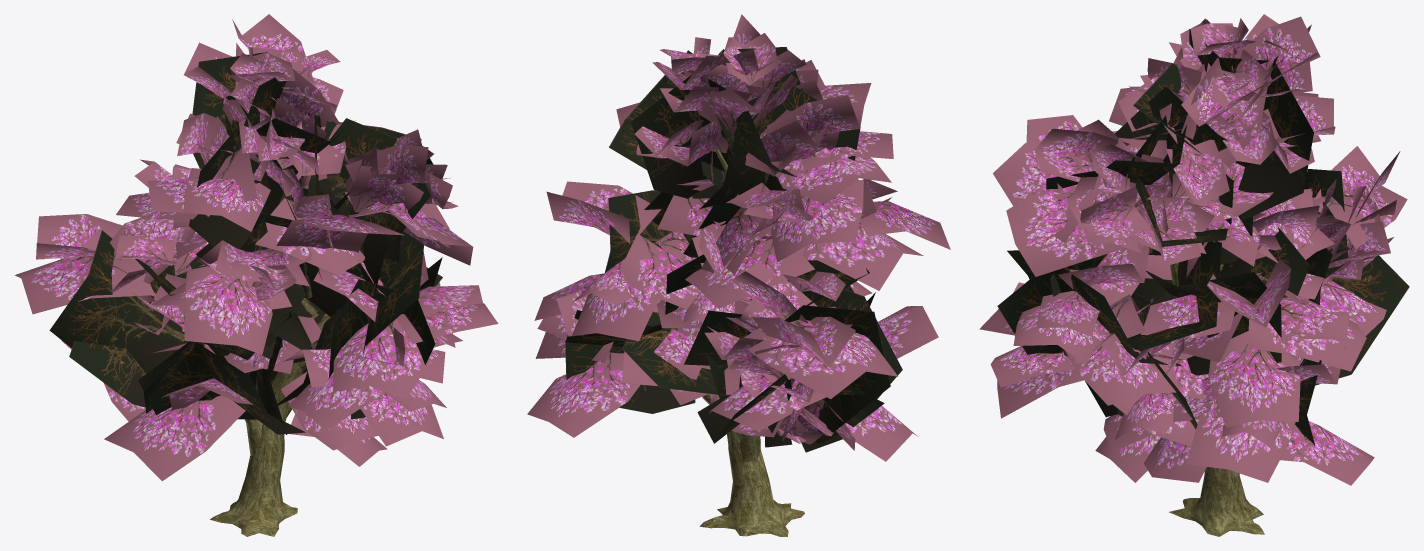
File: Scene_Tree_HongShu_5.FBX
3 renders of one model, left to right at view 1: azimuth 30°, elevation 25°; view 2: azimuth 150°, elevation 25°; view 3: azimuth 270°, elevation 25°, orthographic. The views are drawn at different scales.
Visible parts, largest first — view 1: Scene_Tree_HongShu_5b, Scene_Tree_HongShu_5a; view 2: Scene_Tree_HongShu_5b, Scene_Tree_HongShu_5a; view 3: Scene_Tree_HongShu_5b, Scene_Tree_HongShu_5a.
Part boxes in pixels (x1,y1,x2,y2): Scene_Tree_HongShu_5b: [15, 14, 498, 481]; Scene_Tree_HongShu_5a: [150, 215, 366, 536]; Scene_Tree_HongShu_5b: [527, 14, 950, 461]; Scene_Tree_HongShu_5a: [699, 148, 804, 536]; Scene_Tree_HongShu_5b: [979, 14, 1409, 485]; Scene_Tree_HongShu_5a: [1169, 262, 1264, 536].
Size of the model in its own units: 1005 by 1192 by 920.
